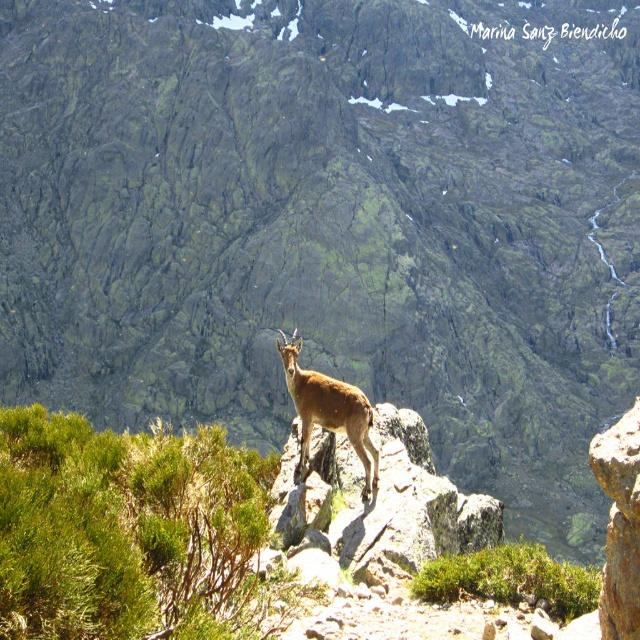Deer: (276, 328, 379, 501)
